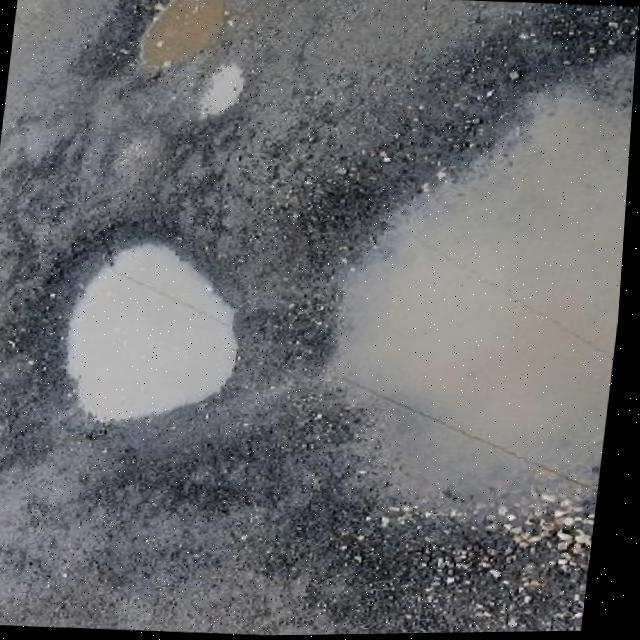pothole: (268, 29, 638, 570), (22, 214, 264, 436), (117, 0, 234, 80), (187, 59, 250, 128)
